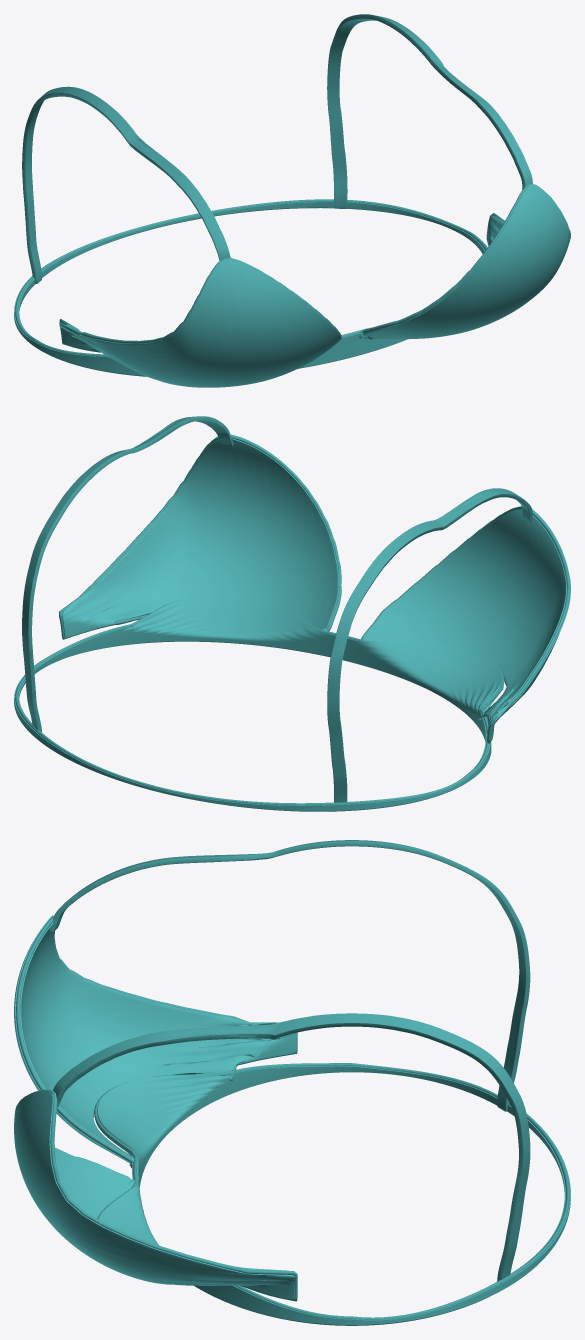
Rendered from Feminine-triangle-top.glb.
3 views of the same model, one above another, from view 1: azimuth 30°, elevation 25°; view 2: azimuth 150°, elevation 25°; view 3: azimuth 270°, elevation 25° (orthographic). The views are drawn at different scales.
Parts seen in each view (by area): view 1: Clothing / triangle cup -1, Clothing / triangle cup 1, Clothing / Triangle strap 1, Clothing / Triangle strap -1, Clothing / Triangle underband, Triangle underband / bound edge.001 export, Triangle / cup edge -1 export, Triangle / cup edge 1 export, Triangle underband / bound edge export; view 2: Clothing / triangle cup 1, Clothing / triangle cup -1, Clothing / Triangle underband, Clothing / Triangle strap -1, Clothing / Triangle strap 1, Triangle underband / bound edge.001 export, Triangle / cup edge 1 export, Triangle / cup edge -1 export, Triangle underband / bound edge export; view 3: Clothing / triangle cup -1, Clothing / Triangle underband, Clothing / triangle cup 1, Clothing / Triangle strap 1, Clothing / Triangle strap -1, Triangle underband / bound edge.001 export, Triangle / cup edge -1 export, Triangle / cup edge 1 export.
Boxes of the visible parts, box(x1,y1,x2,y2) form: Clothing / triangle cup -1: box(59, 259, 341, 387); Clothing / triangle cup 1: box(361, 184, 570, 339); Clothing / Triangle strap 1: box(327, 14, 532, 208); Clothing / Triangle strap -1: box(22, 86, 230, 283); Clothing / Triangle underband: box(14, 201, 487, 376); Triangle underband / bound edge.001 export: box(15, 199, 486, 356); Triangle / cup edge -1 export: box(59, 258, 341, 352); Triangle / cup edge 1 export: box(359, 183, 538, 339); Triangle underband / bound edge export: box(42, 207, 421, 376); Clothing / triangle cup 1: box(59, 434, 341, 637); Clothing / triangle cup -1: box(362, 509, 570, 740); Clothing / Triangle underband: box(14, 594, 501, 811); Clothing / Triangle strap -1: box(327, 488, 533, 802); Clothing / Triangle strap 1: box(22, 416, 233, 732); Triangle underband / bound edge.001 export: box(15, 594, 504, 805); Triangle / cup edge 1 export: box(59, 435, 341, 639); Triangle / cup edge -1 export: box(361, 506, 570, 743); Triangle underband / bound edge export: box(83, 641, 455, 811); Clothing / triangle cup -1: box(14, 915, 296, 1165); Clothing / Triangle underband: box(95, 1065, 570, 1324); Clothing / triangle cup 1: box(14, 1090, 295, 1300); Clothing / Triangle strap 1: box(53, 1013, 530, 1281); Clothing / Triangle strap -1: box(48, 840, 530, 1111); Triangle underband / bound edge.001 export: box(94, 1063, 569, 1319); Triangle / cup edge -1 export: box(16, 915, 297, 1168); Triangle / cup edge 1 export: box(33, 1089, 297, 1301).
Size of the model in its own units: 0.5845 by 0.2889 by 0.5372.
